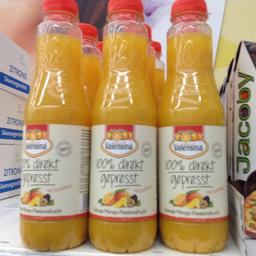juice: (154, 0, 228, 254), (88, 0, 159, 251), (20, 0, 90, 250)
